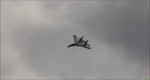maybay_muctieu: (67, 35, 91, 50)
